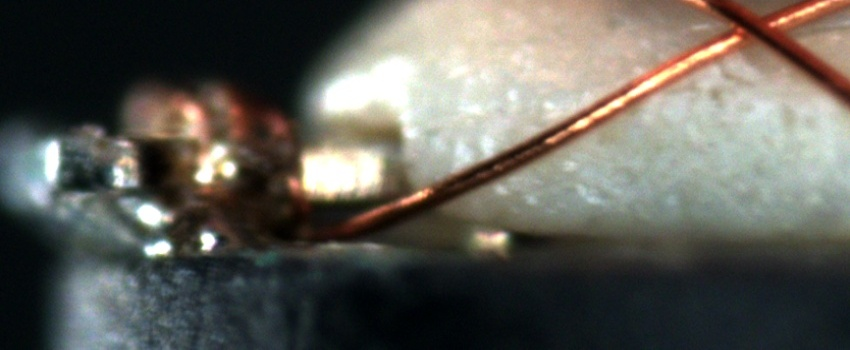CL: (695, 2, 818, 57)
TE: (134, 80, 310, 147)
